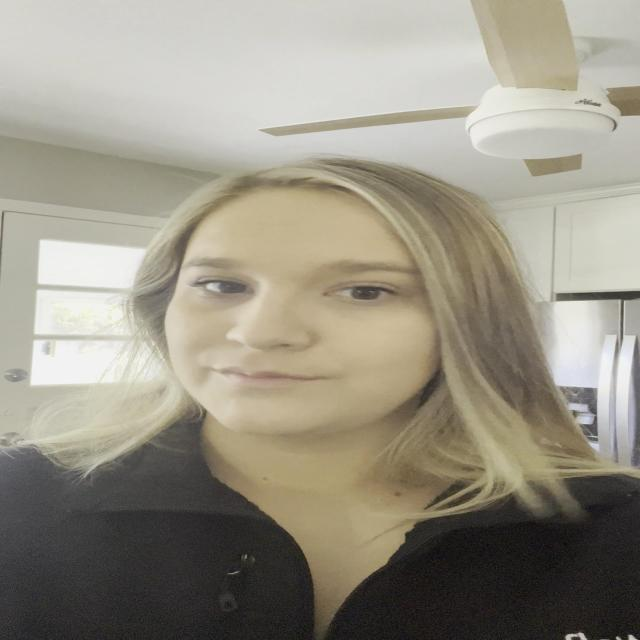no-helmet: (146, 174, 514, 470)
